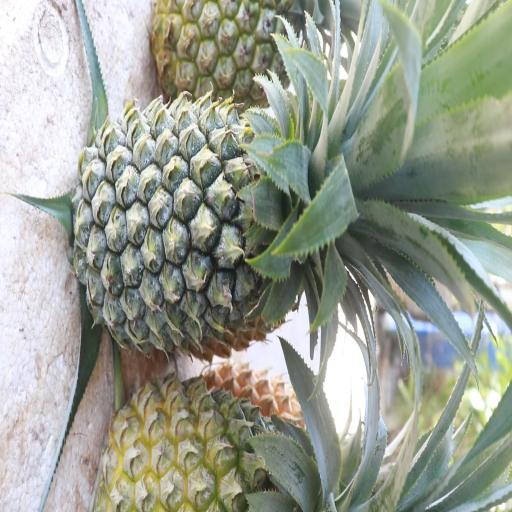------------------------------: (105, 379, 322, 512), (149, 0, 351, 105)
